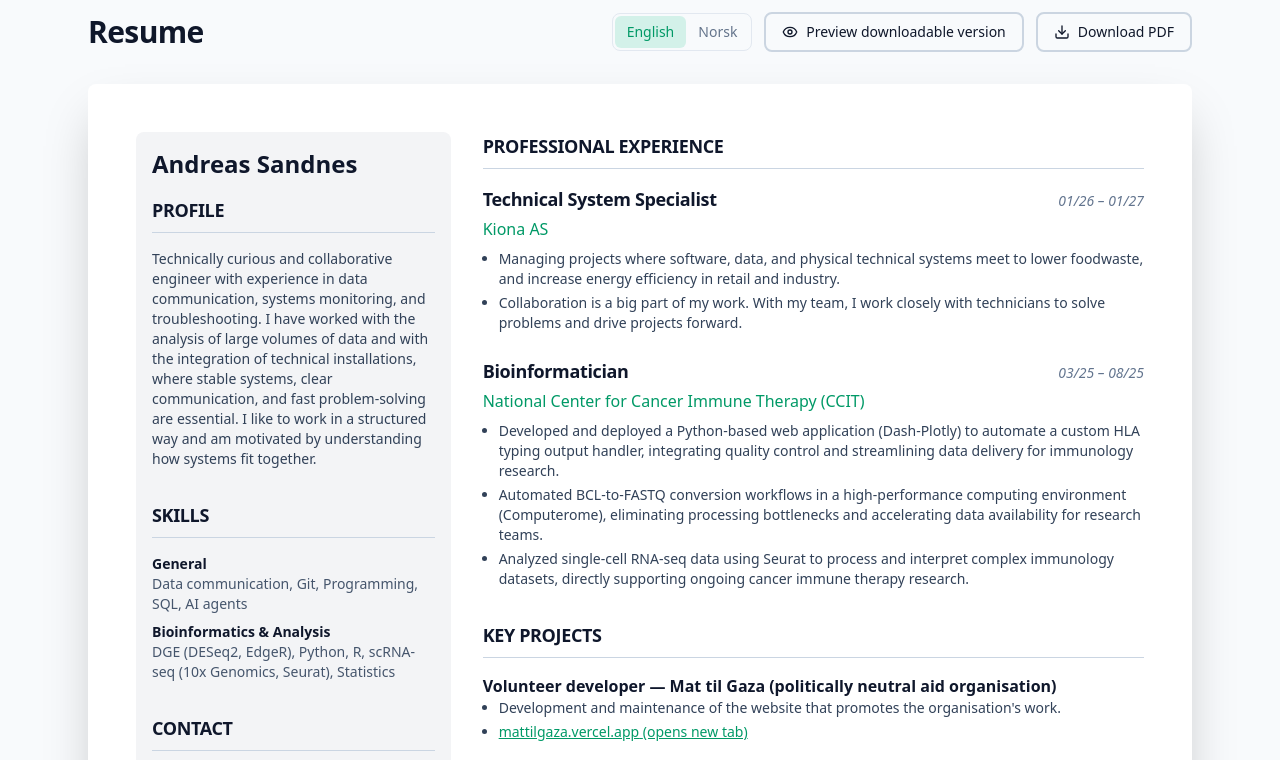
ResumeView › switches content and the download target when toggled to Norwegian
Click the button "Norsk". click: click(718, 32)
box: [686,16,749,48]
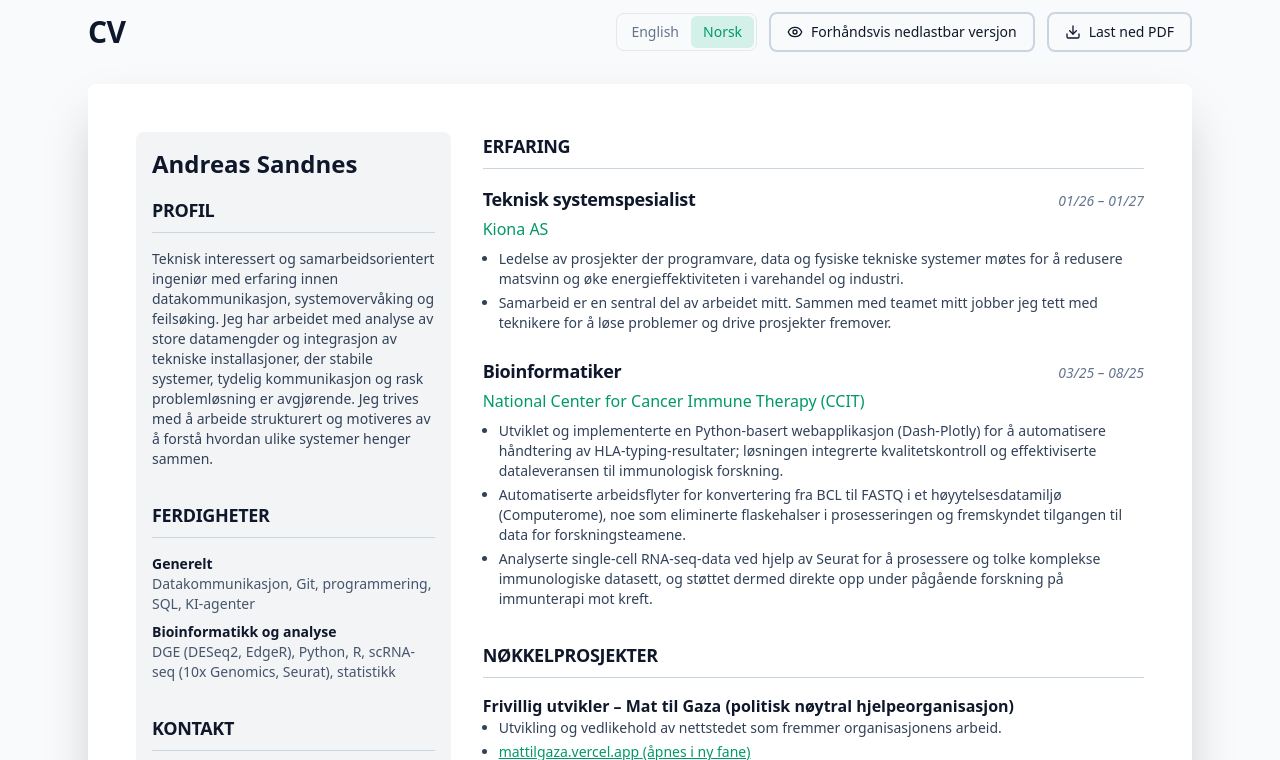
Result: the heading "CV" is shown at [88,14,125,50]
Result: the heading "Erfaring" is shown at [483,132,1144,169]
Result: the heading "Teknisk systemspesialist" is shown at [483,185,695,213]
